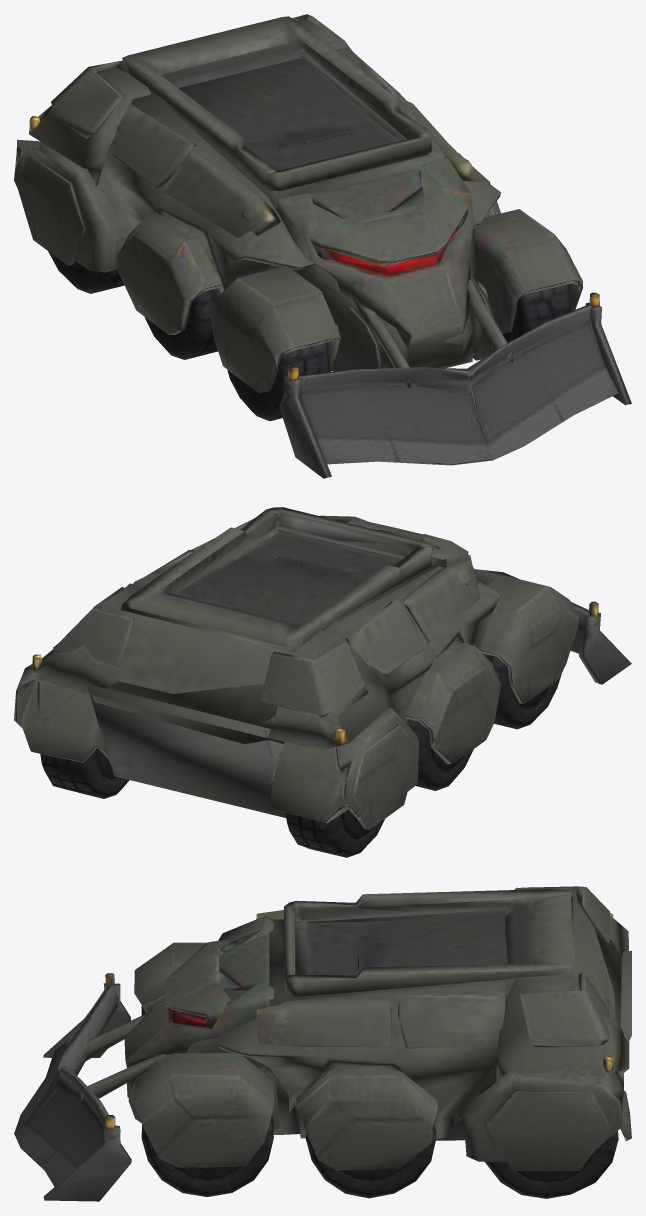
File: bulwark_alt.glb
The picture shows the model from 3 angles, top to bottom: view 1: azimuth 30°, elevation 25°; view 2: azimuth 150°, elevation 25°; view 3: azimuth 270°, elevation 25°; orthographic projection. The views are drawn at different scales.
Bounding box in the file's own units: 0.6157 × 0.372 × 1.
Materials: 1 (1 with a texture image).
